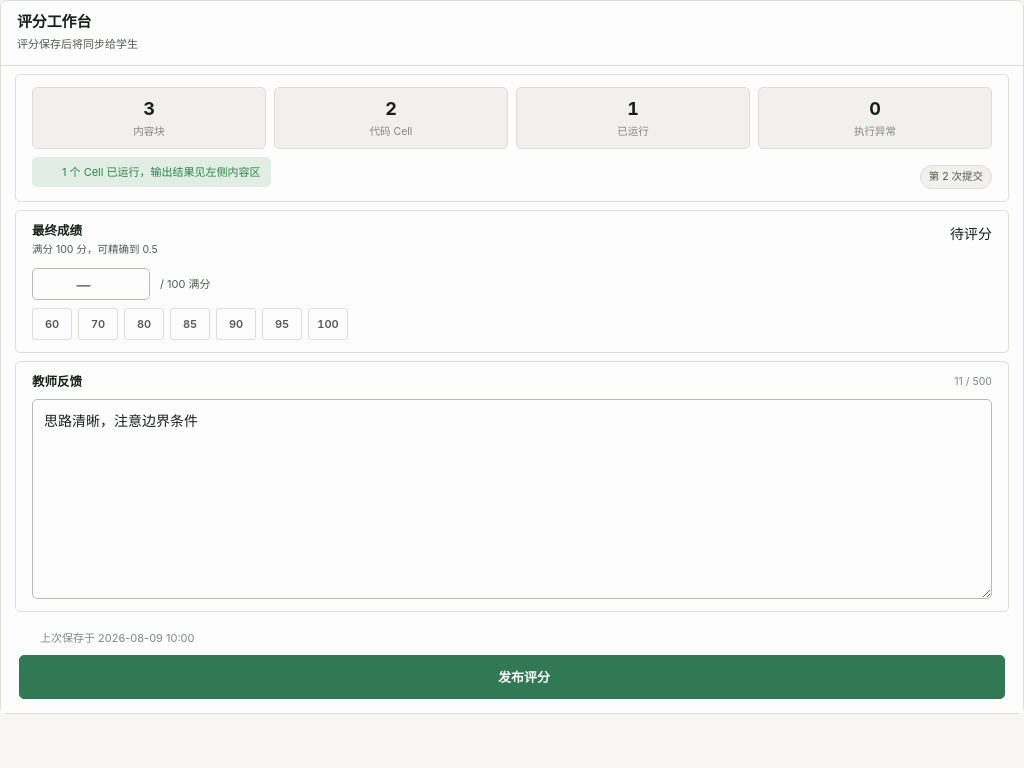
Test: SubmissionReviewPanel › 快捷分数按钮填充输入并显示档位
Click the button "90": coordinates (236, 324) [216,308,256,340]
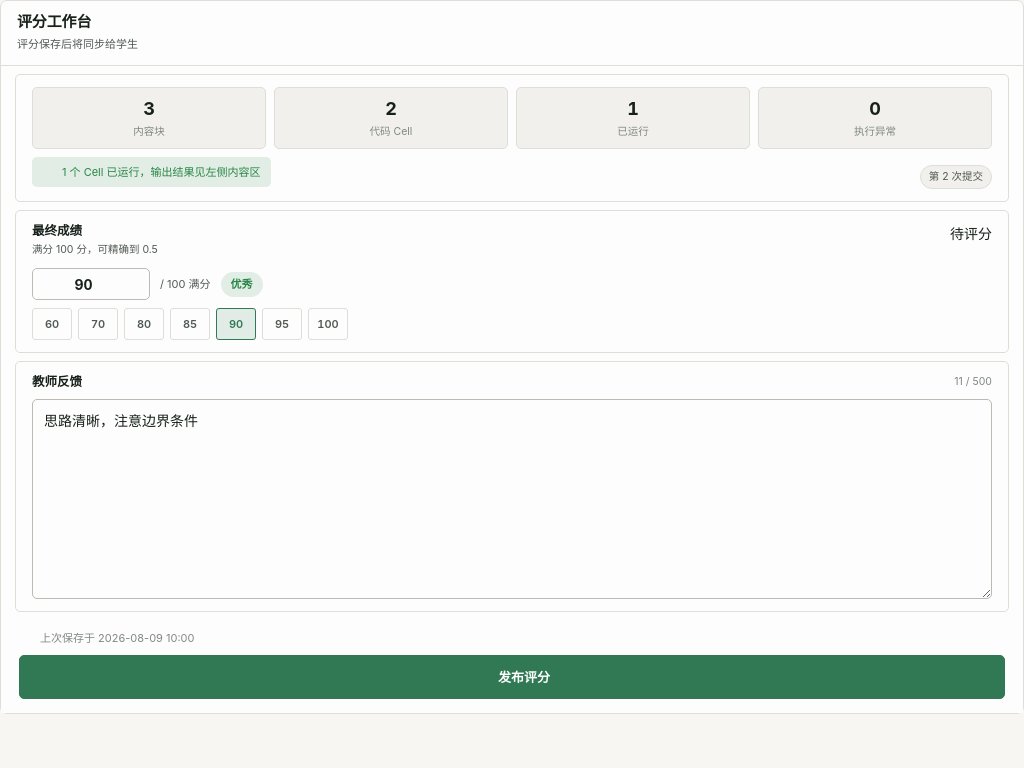
expect the text "满分 100" is shown: met, box [32,243,158,256]
expect the number field with id "review-score" holds "90": met, box [32,268,150,300]
expect the text "优秀" is shown: met, box [220,272,262,297]
